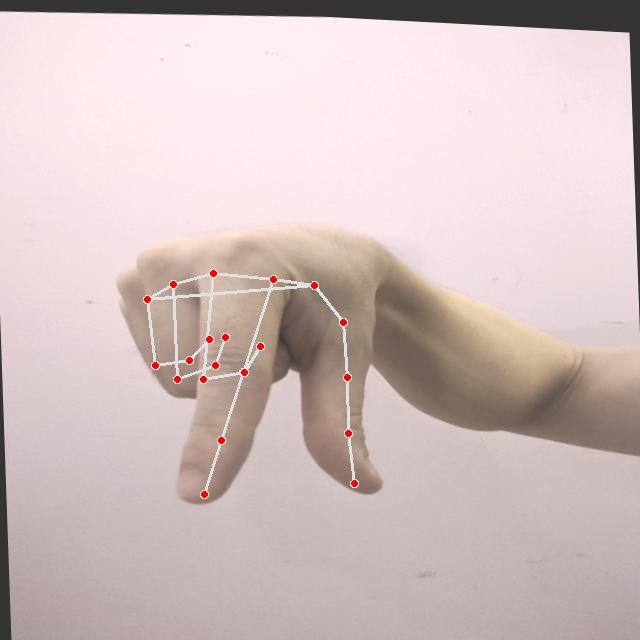Q: (101, 200, 395, 525)
